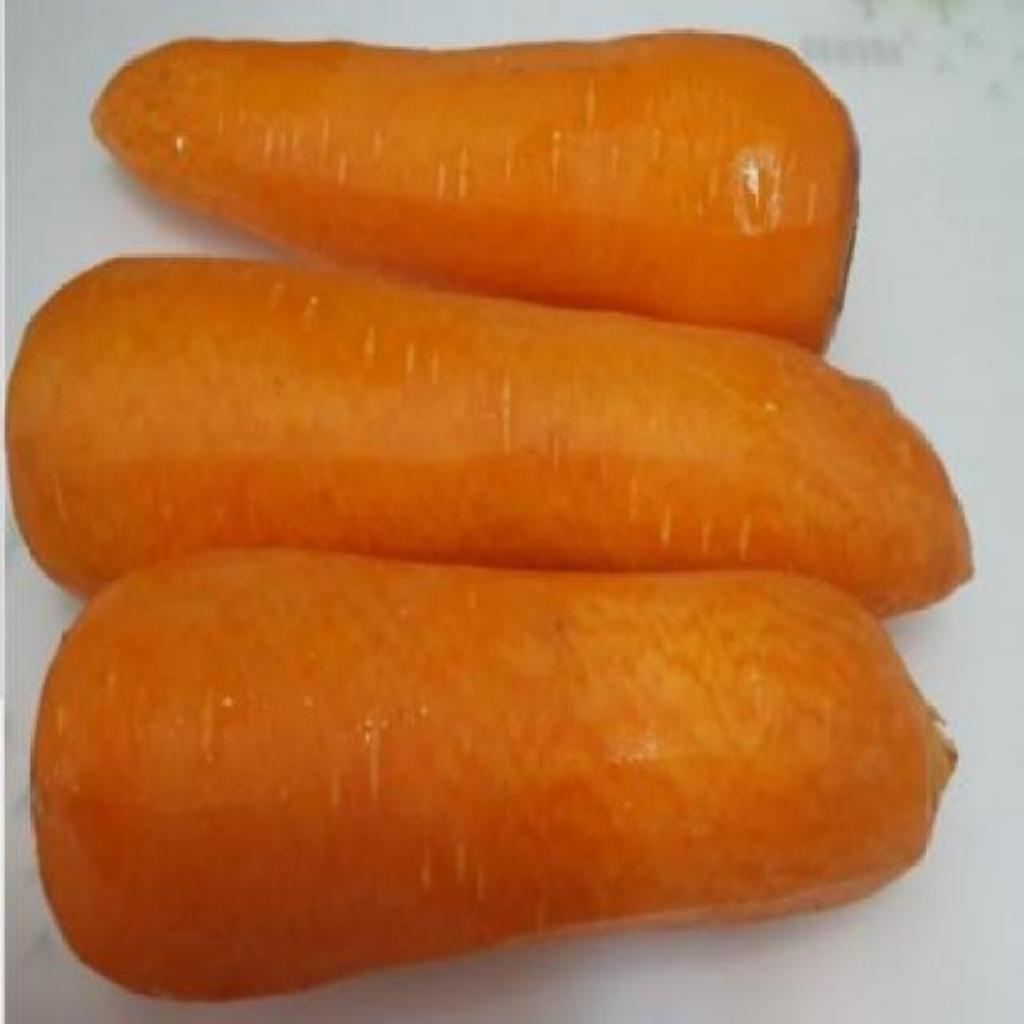carrot: (32, 548, 954, 997), (8, 258, 972, 613), (92, 32, 856, 349)
